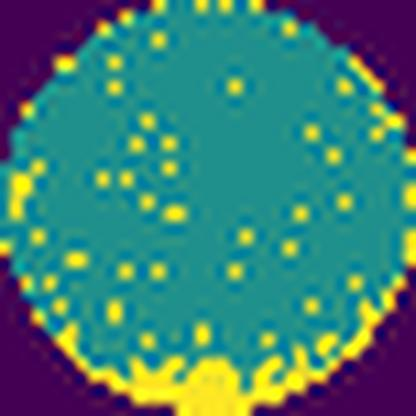Edge-Loc: (43, 314, 416, 416)
